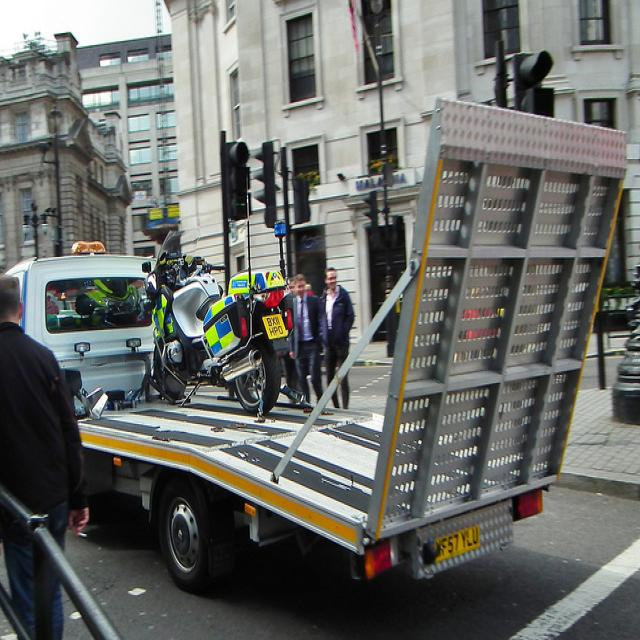motor: (140, 224, 290, 418)
